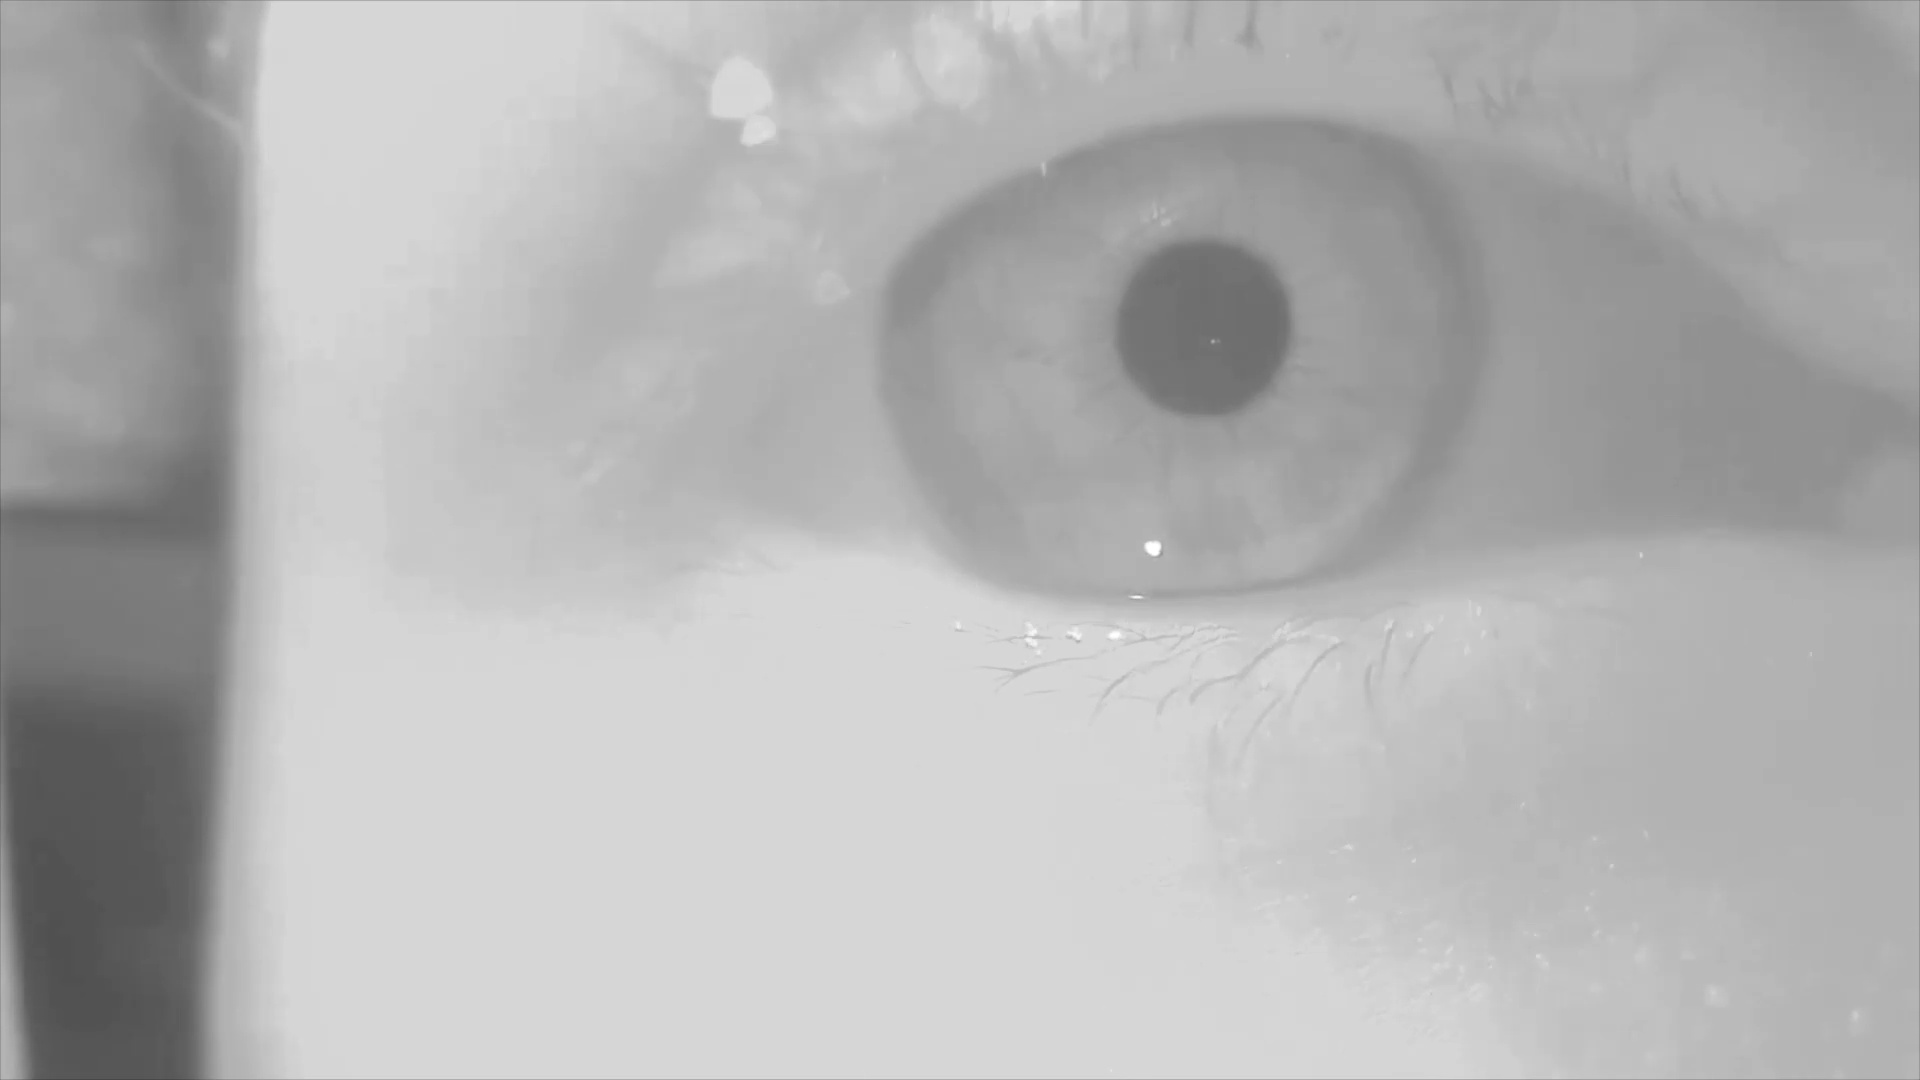pupil: (1113, 246, 1294, 414)
